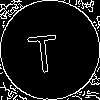T: (25, 25, 61, 74)
